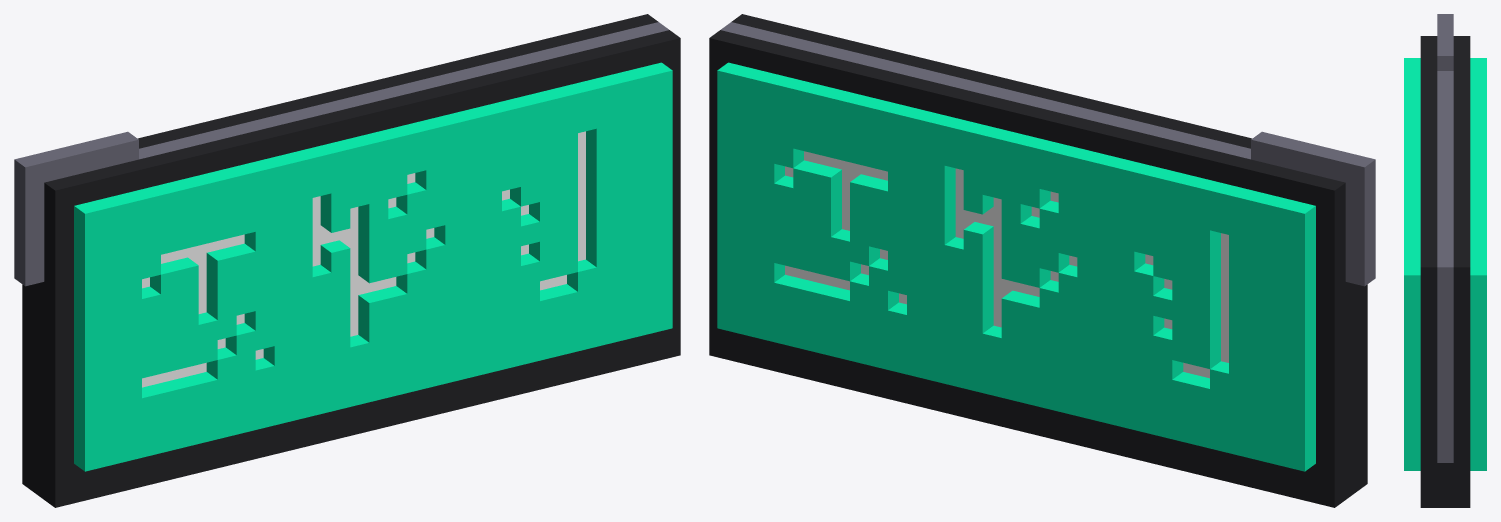
File: Signborad_010.obj
3 renders of one model, left to right at view 1: azimuth 30°, elevation 25°; view 2: azimuth 150°, elevation 25°; view 3: azimuth 270°, elevation 25°, orthographic. The views are drawn at different scales.
Bounding box in the file's own units: 3.4 × 1.7 × 0.5.
Materials: 1 (1 with a texture image).
